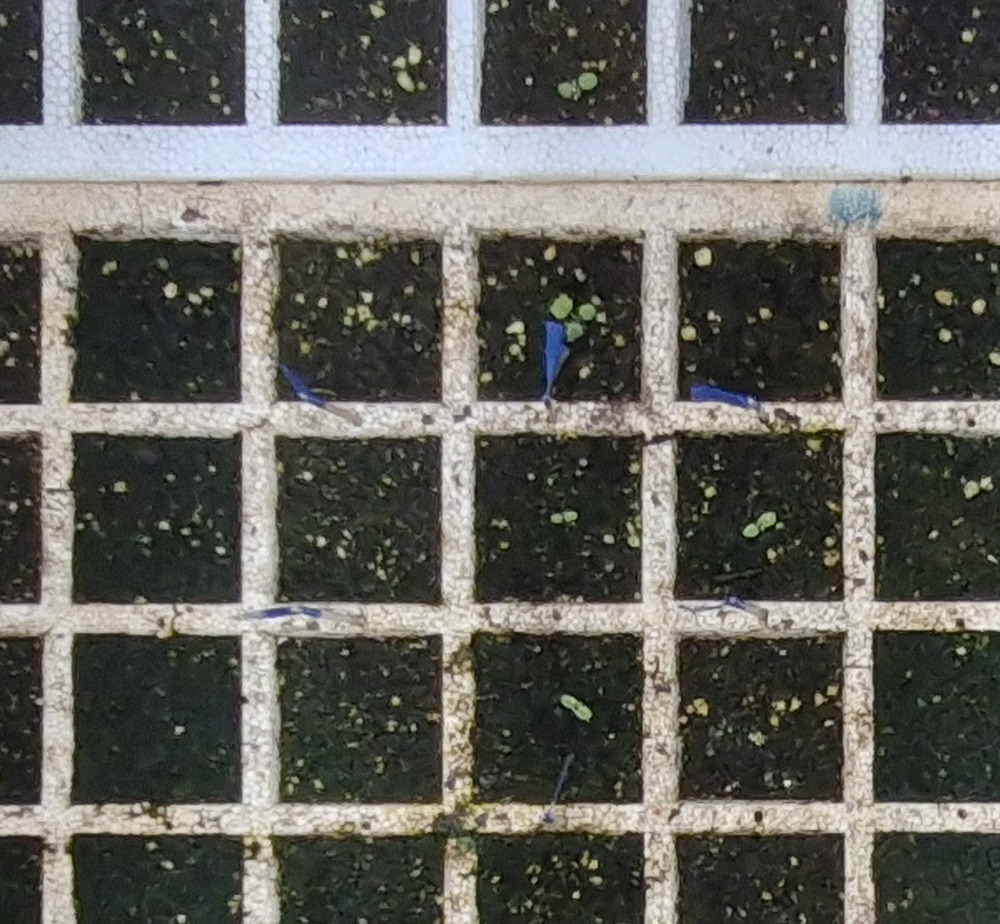Folha: (550, 293, 573, 317), (566, 321, 584, 341), (574, 702, 593, 720), (579, 303, 596, 321), (757, 512, 777, 527), (560, 695, 578, 708), (744, 523, 759, 537), (550, 513, 564, 524), (564, 511, 578, 521)
Germinacao: (549, 293, 597, 342), (742, 512, 777, 539), (560, 693, 591, 720), (550, 511, 578, 524)
